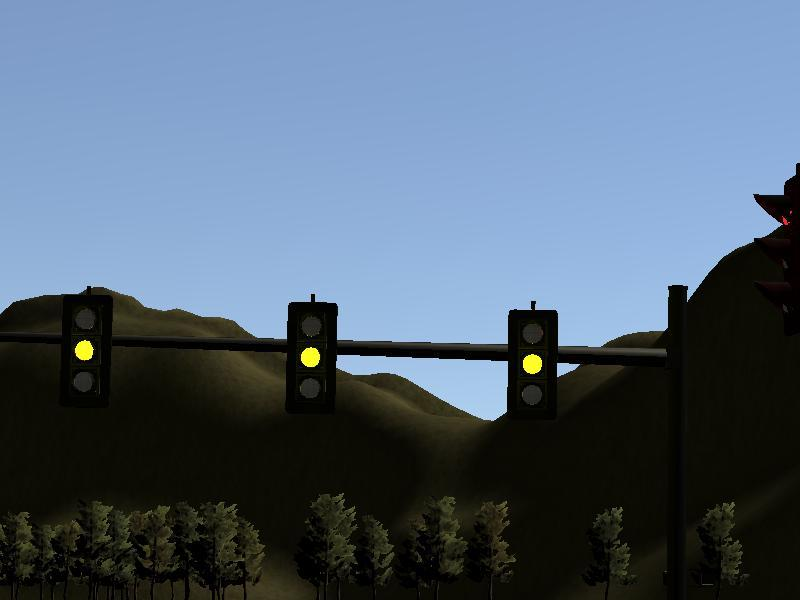Yellow: (286, 302, 338, 412), (508, 309, 558, 423), (62, 294, 113, 405)
